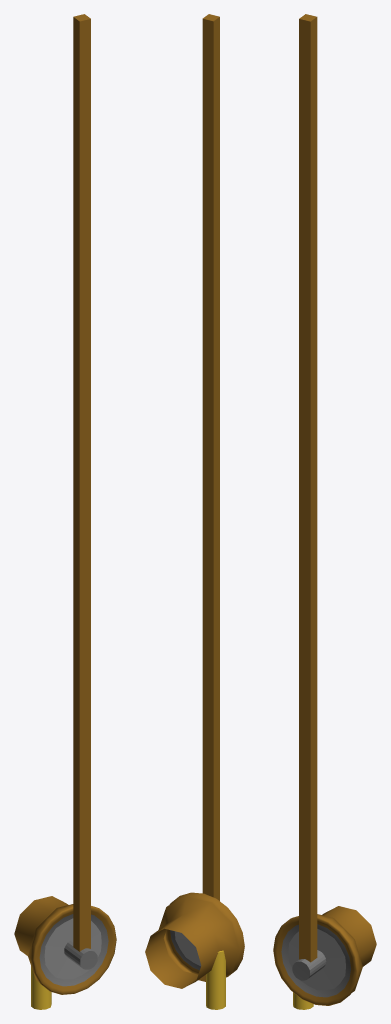
Rendered from geo_PulleyLeft.fbx.
3 views of the same model, side by side, from view 1: azimuth 30°, elevation 25°; view 2: azimuth 150°, elevation 25°; view 3: azimuth 330°, elevation 25° (orthographic). The views are drawn at different scales.
Parts seen in each view (by area): view 1: polySurface3, polySurface2, polySurface4; view 2: polySurface3, polySurface2, polySurface4; view 3: polySurface3, polySurface2.
Boxes of the visible parts, left/top/right/bottom form: polySurface3: left=73, top=14, right=90, bottom=951; polySurface2: left=14, top=896, right=116, bottom=994; polySurface4: left=31, top=966, right=51, bottom=1009; polySurface3: left=202, top=14, right=219, bottom=900; polySurface2: left=145, top=892, right=244, bottom=988; polySurface4: left=206, top=950, right=225, bottom=1009; polySurface3: left=299, top=14, right=317, bottom=962; polySurface2: left=273, top=906, right=376, bottom=1005.
Bounding box in the file's own units: 25.44 × 288 × 23.98.
Materials: 1 (1 with a texture image).
